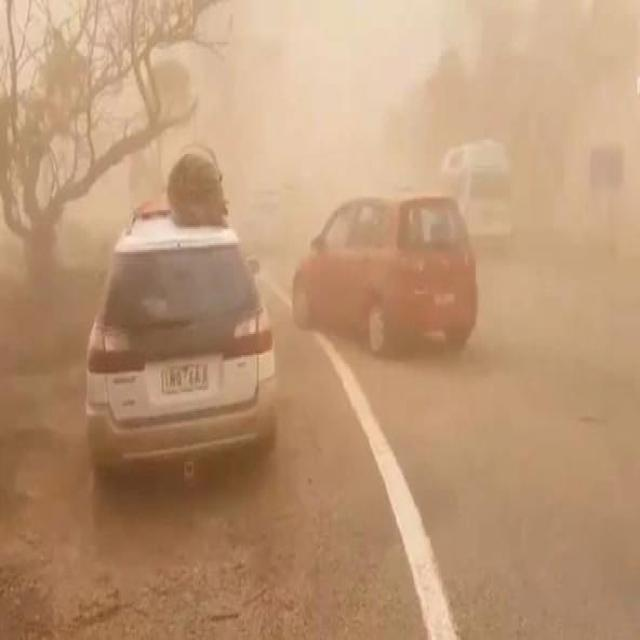Car: (85, 156, 280, 482), (292, 189, 480, 353)
